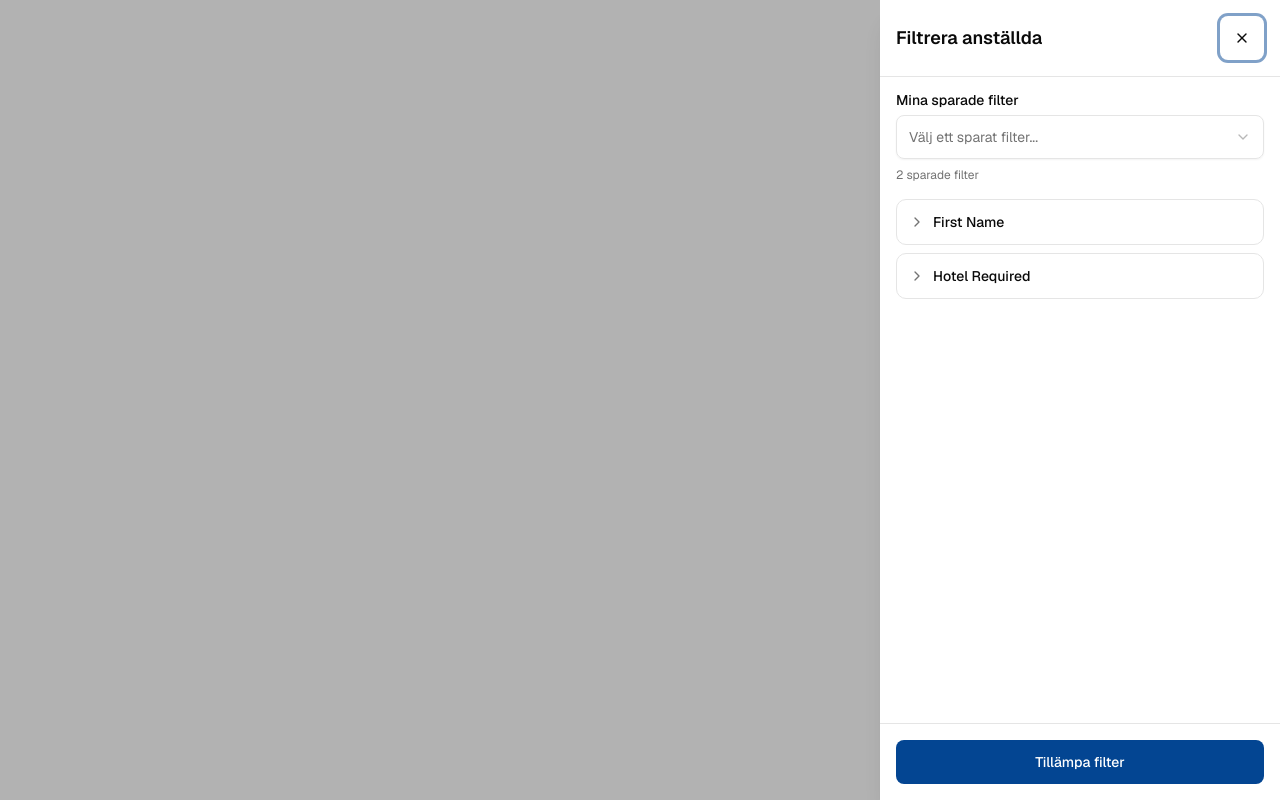
Story 20.6: Saved Filters Integration › loads and displays saved filters in dropdown
Click the dropdown labelled "Välj ett sparat filter..." at x=973, y=137, box top-left (896, 115), bottom-right (1264, 159)
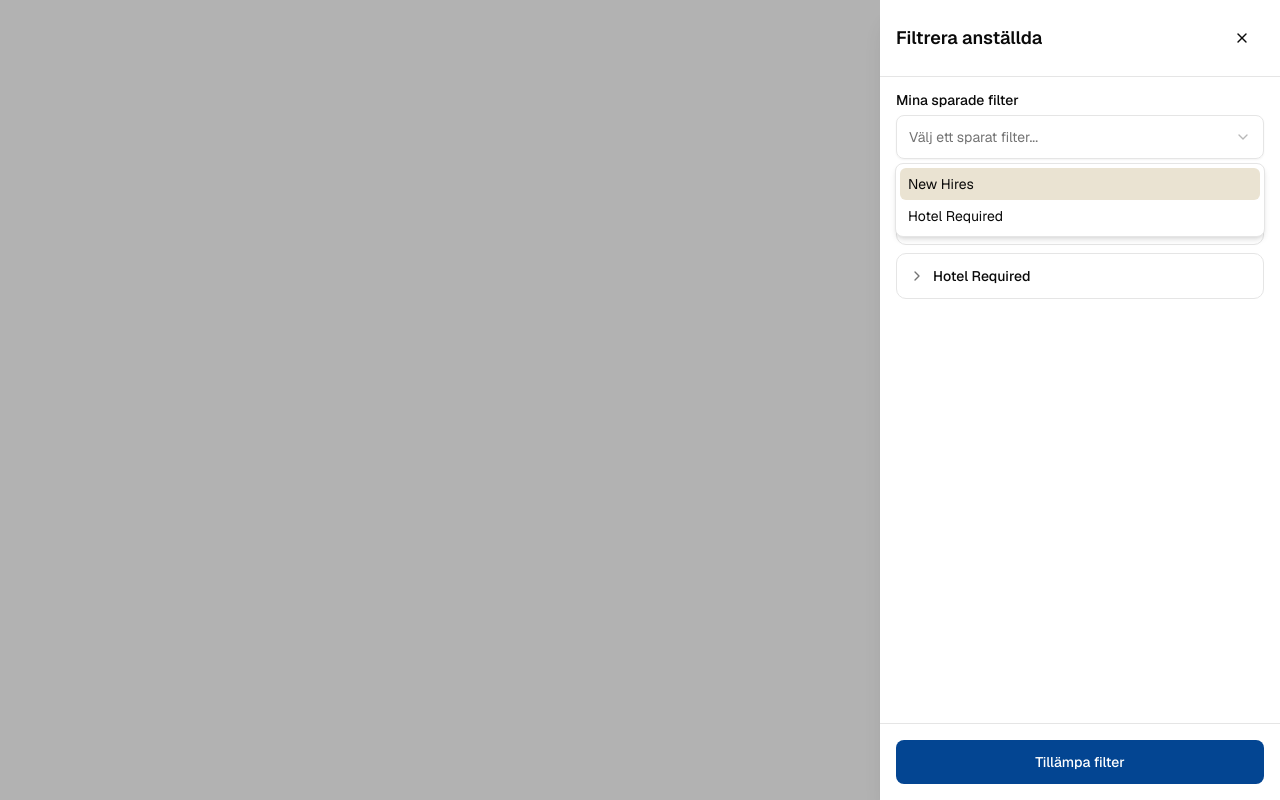
Expected: the text "Hotel Required" below "2 sparade filter" is shown, top-left (933, 267), bottom-right (1030, 285)
Expected: the text "New Hires" is shown, top-left (908, 174), bottom-right (974, 194)
